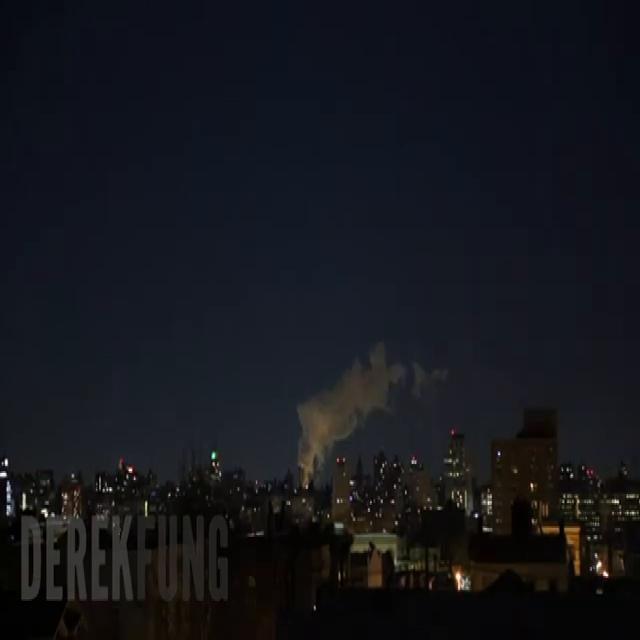smoke: (297, 341, 406, 480)
